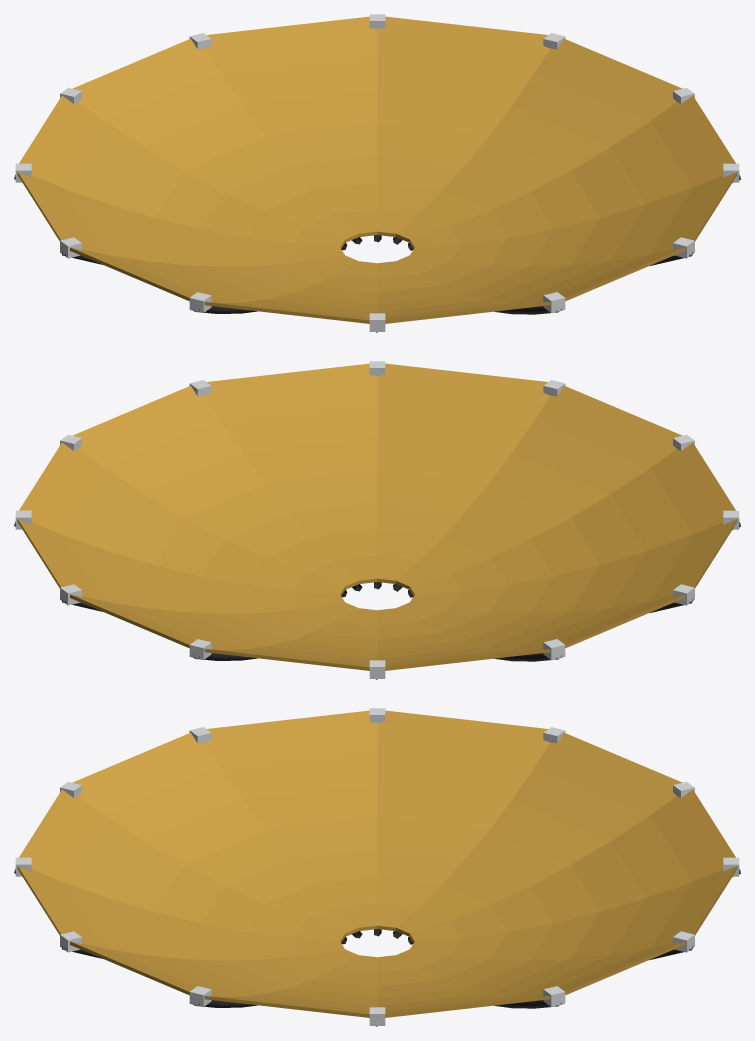
File: r1_reflector.obj
The picture shows the model from 3 angles, top to bottom: view 1: azimuth 30°, elevation 25°; view 2: azimuth 150°, elevation 25°; view 3: azimuth 270°, elevation 25°; orthographic projection.
Parts seen in each view (by area): view 1: r1_reflector; view 2: r1_reflector; view 3: r1_reflector.
Boxes of the visible parts, x1,y1,x2,y2 form: r1_reflector: [14, 14, 740, 332]; r1_reflector: [14, 361, 740, 679]; r1_reflector: [14, 708, 740, 1026].
Size of the model in its own units: 2.73 by 0.3776 by 2.73.
